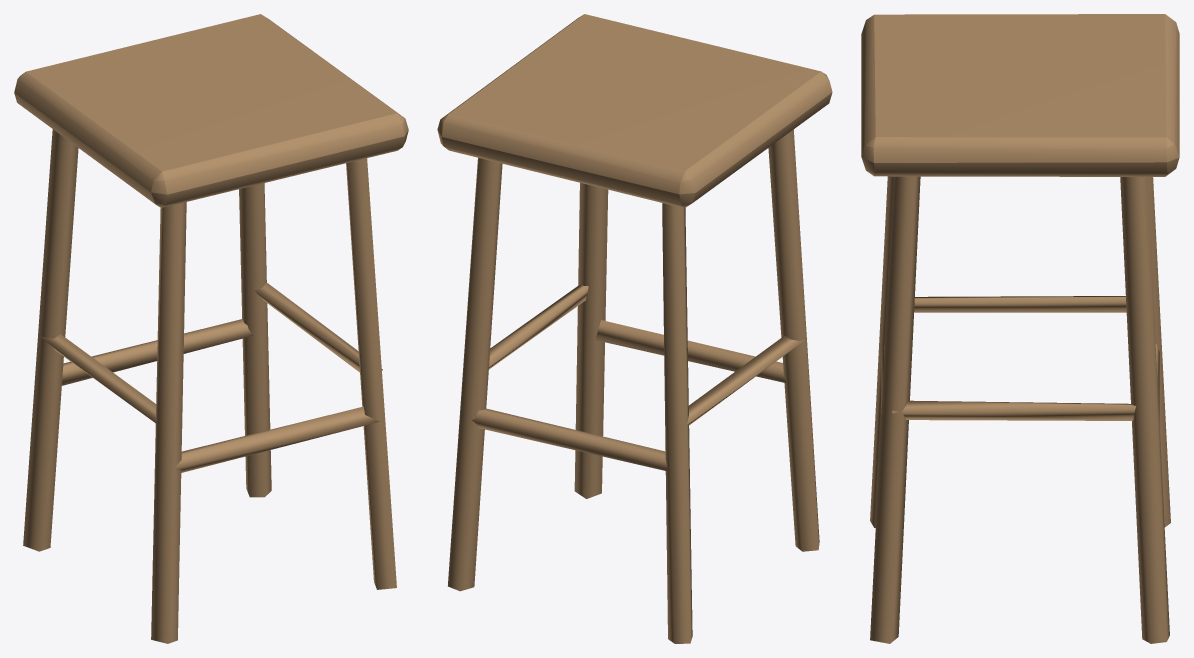
The model's file is oak-counter-stool-light.glb.
The picture shows the model from 3 angles, left to right: view 1: azimuth 30°, elevation 25°; view 2: azimuth 150°, elevation 25°; view 3: azimuth 270°, elevation 25°; orthographic projection. The views are drawn at different scales.
Parts seen in each view (by area): view 1: Mood oak board; view 2: Mood oak board; view 3: Mood oak board.
Part boxes in pixels (box(x1,y1,x2,y2)): Mood oak board: box(14, 14, 408, 643); Mood oak board: box(437, 14, 832, 643); Mood oak board: box(861, 14, 1179, 643).
Size of the model in its own units: 0.3972 by 0.6976 by 0.3972.
